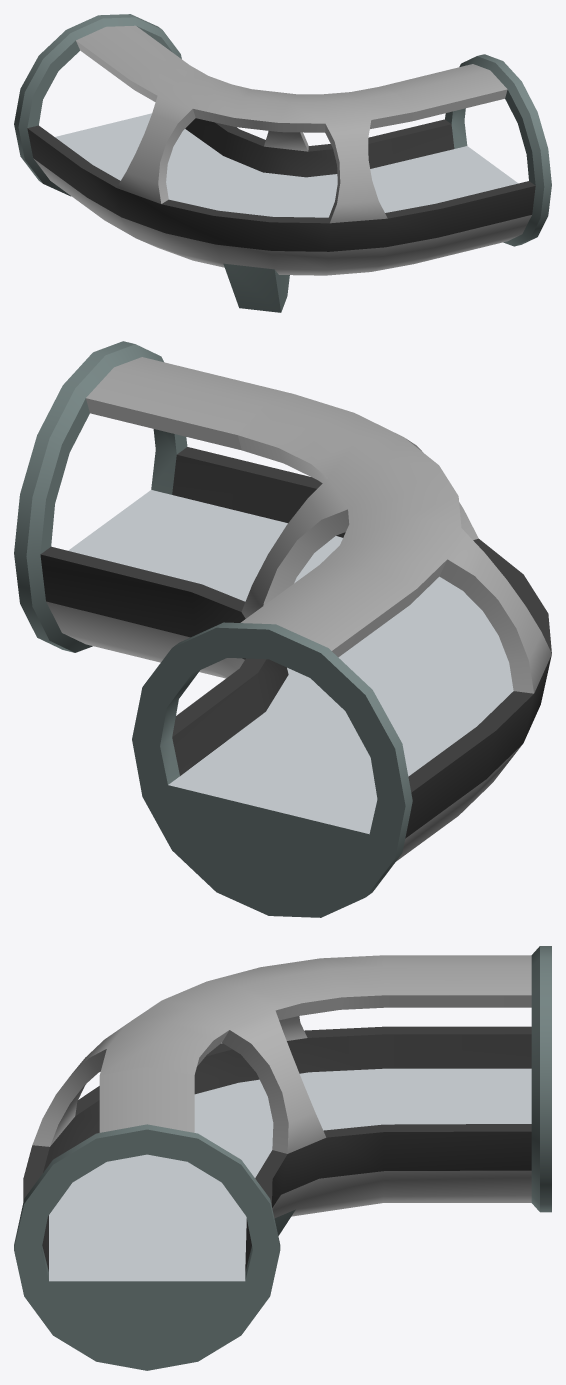
File: m_ConveyorHousing_Turn.fbx
The picture shows the model from 3 angles, top to bottom: view 1: azimuth 30°, elevation 25°; view 2: azimuth 150°, elevation 25°; view 3: azimuth 270°, elevation 25°; orthographic projection. The views are drawn at different scales.
Parts seen in each view (by area): view 1: ConveyorHousing_Turn; view 2: ConveyorHousing_Turn; view 3: ConveyorHousing_Turn.
Part boxes in pixels (box(x1,y1,x2,y2)): ConveyorHousing_Turn: box(14, 14, 551, 312); ConveyorHousing_Turn: box(14, 341, 551, 917); ConveyorHousing_Turn: box(14, 946, 551, 1370).
Size of the model in its own units: 66.45 by 38.83 by 66.45.
